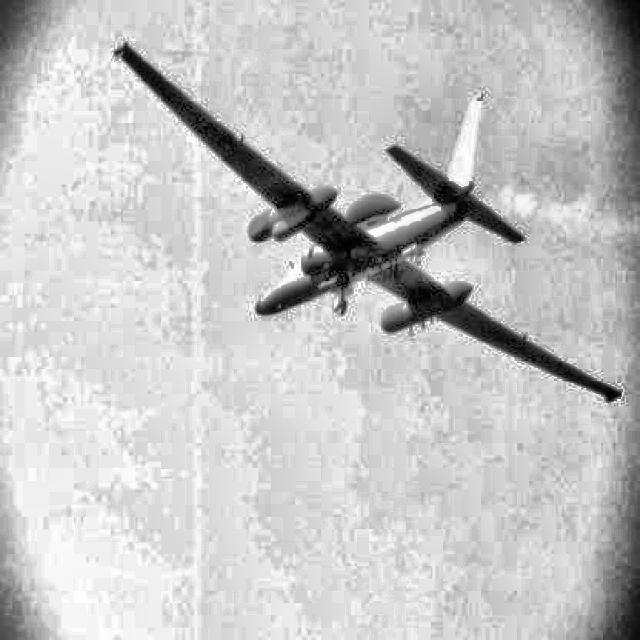U2: (113, 41, 622, 404)
